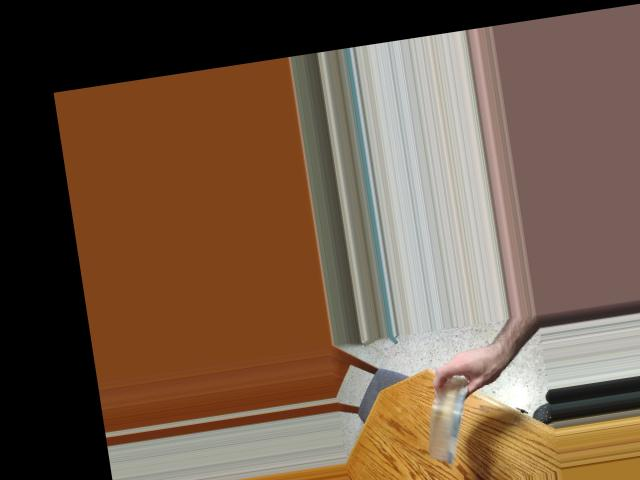cheese: (421, 366, 470, 468)
